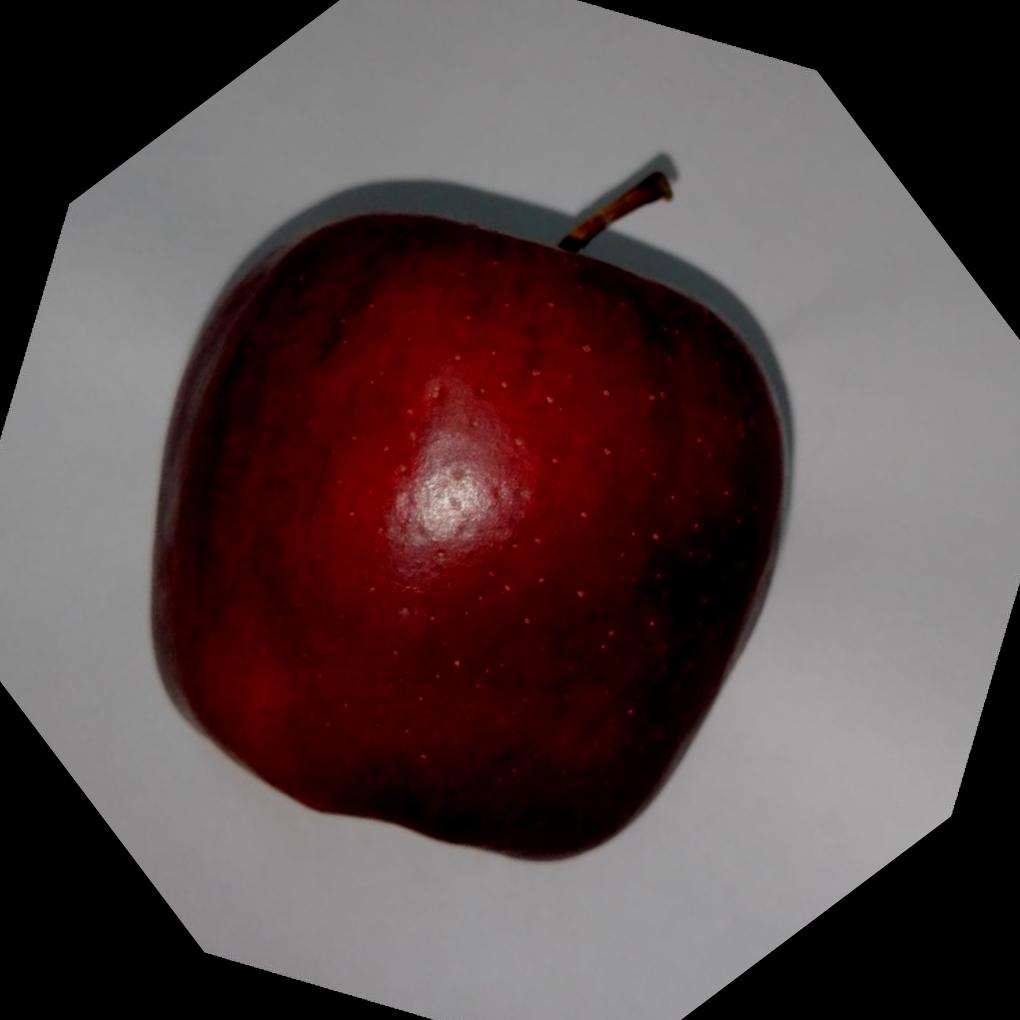FreshOrange: (148, 164, 795, 867)
